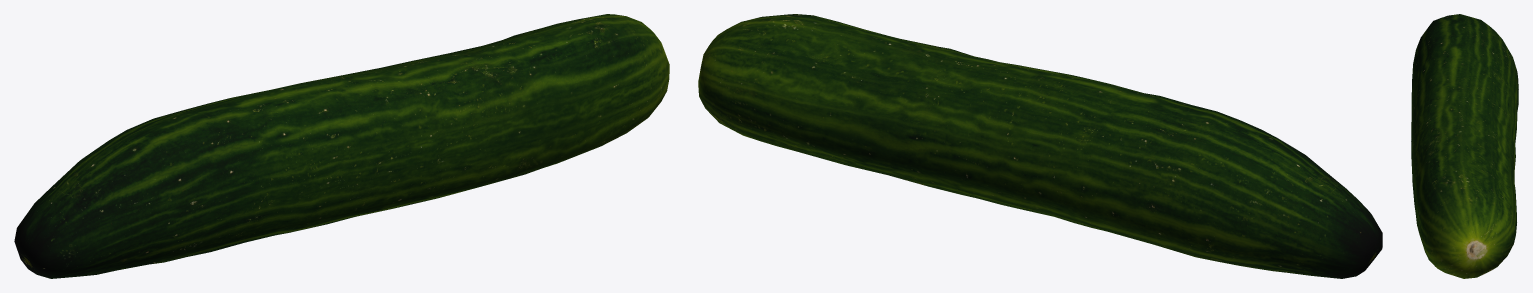
The model's file is cucumber_tl2leafjw_mid.glb.
3 views of the same model, side by side, from view 1: azimuth 30°, elevation 25°; view 2: azimuth 150°, elevation 25°; view 3: azimuth 270°, elevation 25° (orthographic). The views are drawn at different scales.
Visible parts, largest first — view 1: tl2leafjw_LOD0_TIER2_000; view 2: tl2leafjw_LOD0_TIER2_000; view 3: tl2leafjw_LOD0_TIER2_000.
Boxes of the visible parts, x1=… form: tl2leafjw_LOD0_TIER2_000: x1=14, y1=14, x2=669, y2=278; tl2leafjw_LOD0_TIER2_000: x1=698, y1=14, x2=1382, y2=278; tl2leafjw_LOD0_TIER2_000: x1=1411, y1=14, x2=1518, y2=278.
Bounding box in the file's own units: 0.2523 × 0.0501 × 0.0483.
Materials: 1 (1 with a texture image).
